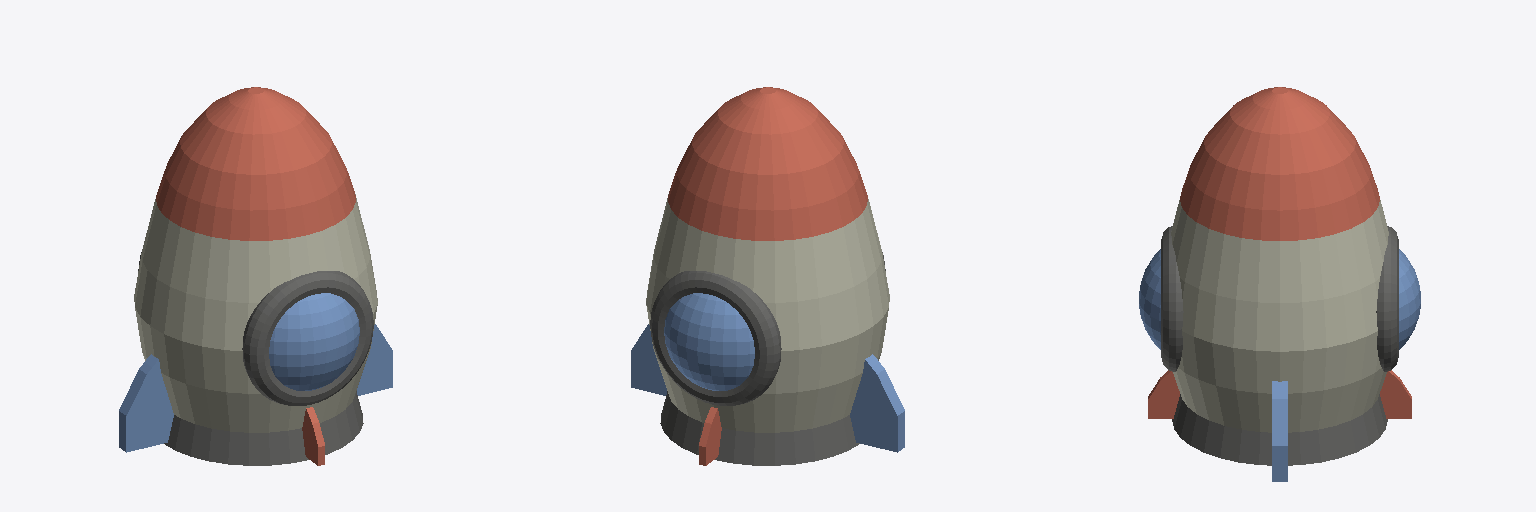
The picture shows the model from 3 angles: view 1: azimuth 30°, elevation 25°; view 2: azimuth 150°, elevation 25°; view 3: azimuth 270°, elevation 25°; orthographic projection.
Visible parts, largest first — view 1: 円柱, 円柱.001, トーラス.001, 球, 円柱.002, 立方体.001, 立方体, 立方体.003; view 2: 円柱, 円柱.001, トーラス, 球.001, 円柱.002, 立方体.001, 立方体, 立方体.002; view 3: 円柱, 円柱.001, 円柱.002, トーラス, トーラス.001, 立方体, 球, 球.001, 立方体.002, 立方体.003.
Part boxes in pixels (x1,y1,x2,y2): 円柱: (134, 194, 377, 432); 円柱.001: (156, 87, 355, 240); トーラス.001: (242, 271, 373, 405); 球: (269, 293, 359, 390); 円柱.002: (164, 391, 363, 465); 立方体.001: (119, 354, 173, 452); 立方体: (357, 324, 392, 395); 立方体.003: (302, 407, 324, 465); 円柱: (646, 194, 889, 432); 円柱.001: (668, 87, 867, 240); トーラス: (650, 271, 781, 405); 球.001: (664, 293, 754, 390); 円柱.002: (660, 391, 859, 465); 立方体.001: (850, 354, 904, 452); 立方体: (631, 324, 666, 395); 立方体.002: (699, 407, 721, 465); 円柱: (1171, 200, 1388, 432); 円柱.001: (1180, 87, 1379, 240); 円柱.002: (1172, 394, 1387, 465); トーラス: (1376, 226, 1398, 371); トーラス.001: (1161, 226, 1183, 371); 立方体: (1272, 381, 1287, 481); 球: (1139, 249, 1160, 349); 球.001: (1399, 249, 1420, 349); 立方体.002: (1380, 370, 1411, 418); 立方体.003: (1148, 370, 1179, 418).
Bounding box in the file's own units: 3.43 × 4.06 × 3.15.
Materials: 1 (1 with a texture image).